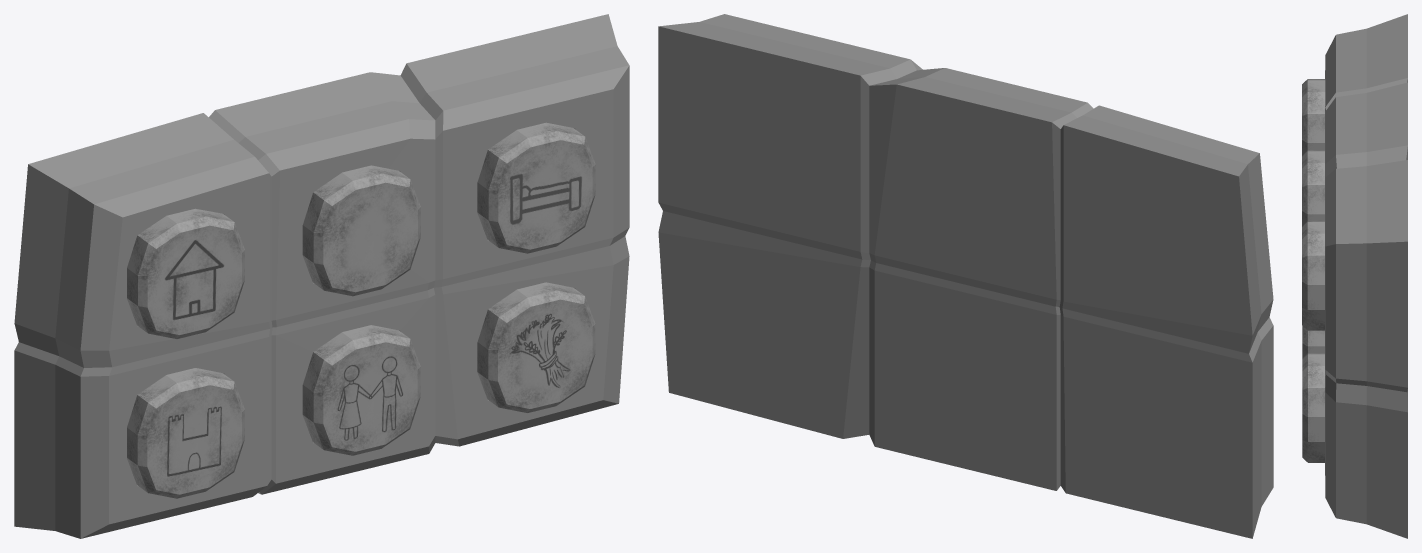
File: ButtensPussel.fbx
3 renders of one model, left to right at view 1: azimuth 30°, elevation 25°; view 2: azimuth 150°, elevation 25°; view 3: azimuth 270°, elevation 25°, orthographic. The views are drawn at different scales.
Parts seen in each view (by area): view 1: StoneBox, Knapp3, Knapp2, Knapp6, Knapp5, Knapp4, Knapp1; view 2: StoneBox; view 3: StoneBox, Knapp3, Knapp6, Knapp1, Knapp2, Knapp5.
Part boxes in pixels (x1,y1,x2,y2): StoneBox: (14,14,629,538); Knapp3: (477,122,595,253); Knapp2: (302,165,420,296); Knapp6: (477,282,595,412); Knapp5: (302,325,420,455); Knapp4: (127,368,244,498); Knapp1: (127,208,244,338); StoneBox: (658,14,1273,538); StoneBox: (1325,14,1407,538); Knapp3: (1302,220,1324,330); Knapp6: (1302,353,1324,462); Knapp1: (1302,79,1325,155); Knapp2: (1302,150,1324,225); Knapp5: (1302,326,1324,357).
Bounding box in the file's own units: 46.58 × 27.54 × 8.68.
